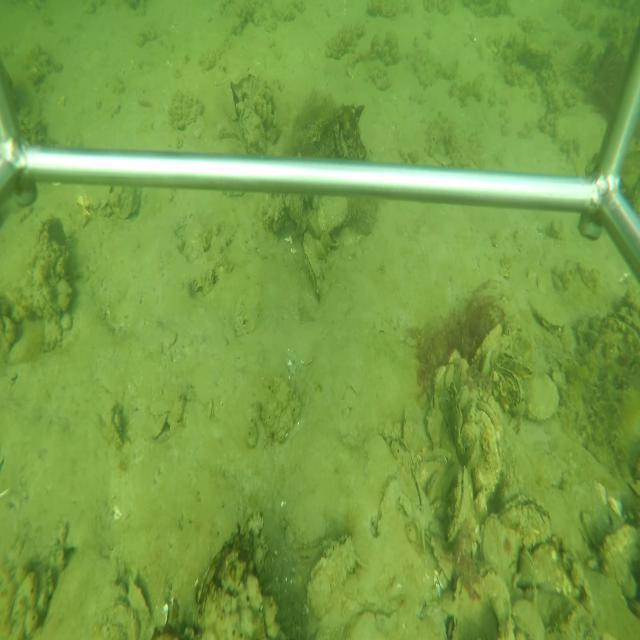Oyster-Closed: (193, 515, 276, 635), (307, 533, 356, 622), (470, 396, 501, 495), (480, 513, 523, 582), (496, 491, 552, 542), (521, 373, 561, 428), (446, 466, 468, 545), (474, 320, 503, 378), (302, 230, 325, 299)
Oyster-Indeterminate: (526, 287, 572, 333), (125, 573, 153, 624)
